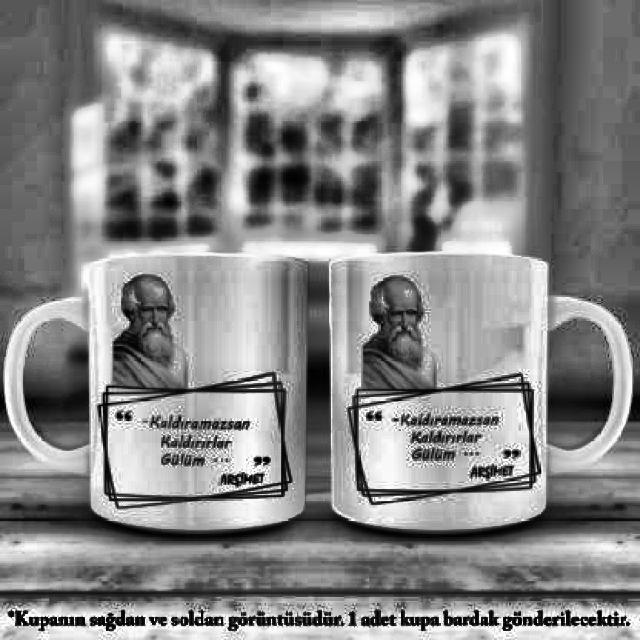Mug: (329, 249, 633, 537), (3, 252, 306, 536)
